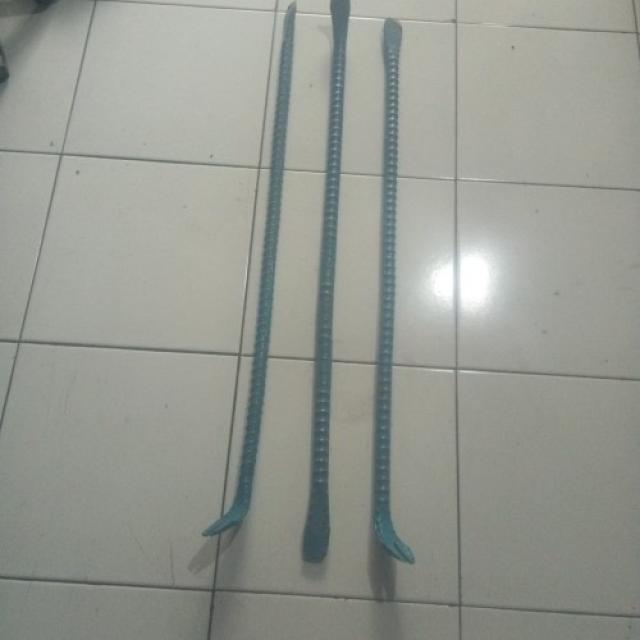Linggis: (203, 3, 300, 542)
